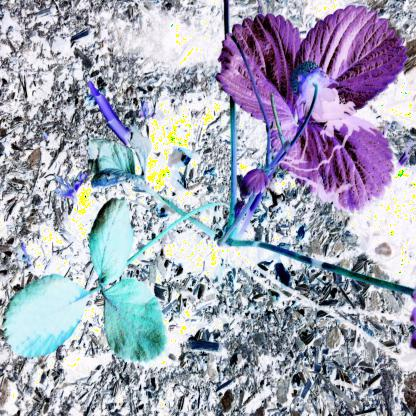Strawberry leaf: (289, 6, 412, 120), (288, 107, 398, 223), (218, 14, 307, 129)
